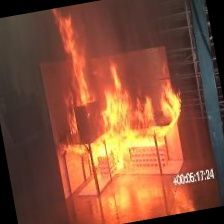fire: (23, 0, 192, 193)
